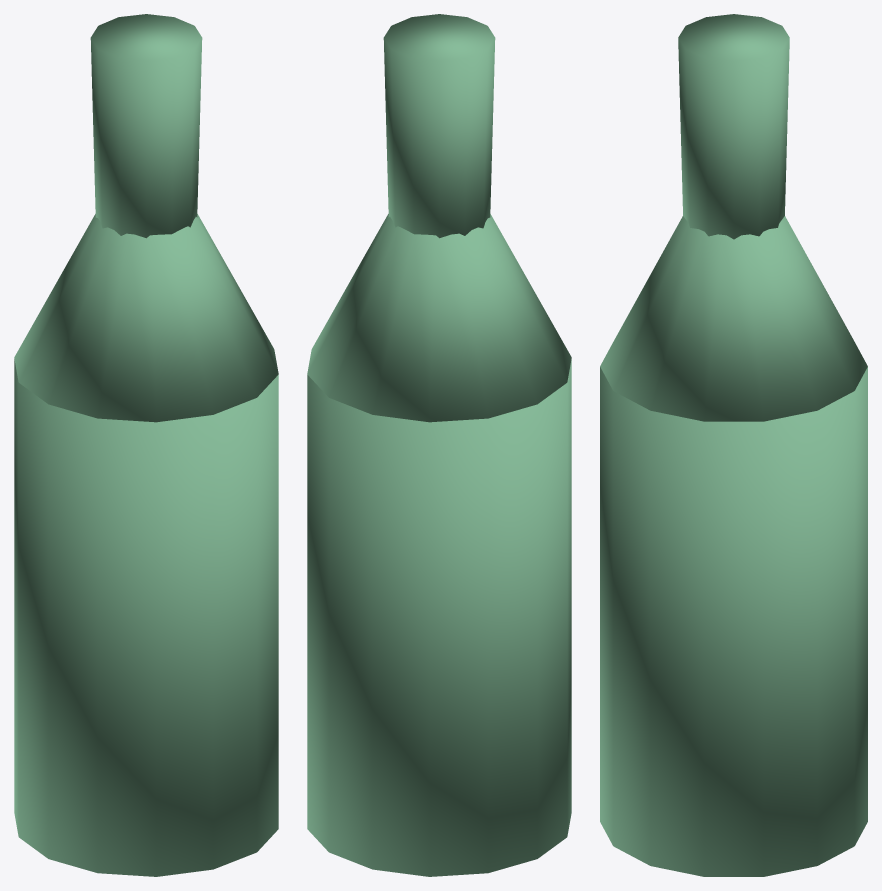
Rendered from item_bottle.glb.
3 views of the same model, side by side, from view 1: azimuth 30°, elevation 25°; view 2: azimuth 150°, elevation 25°; view 3: azimuth 270°, elevation 25° (orthographic).
Parts seen in each view (by area): view 1: BottleBody, BottleShoulder, BottleNeck; view 2: BottleBody, BottleShoulder, BottleNeck; view 3: BottleBody, BottleShoulder, BottleNeck.
Part boxes in pixels (x1,y1,x2,y2): BottleBody: [14, 359, 278, 876]; BottleShoulder: [14, 214, 278, 422]; BottleNeck: [90, 14, 202, 238]; BottleBody: [307, 359, 571, 876]; BottleShoulder: [307, 214, 571, 422]; BottleNeck: [383, 14, 495, 238]; BottleBody: [600, 367, 867, 876]; BottleShoulder: [600, 216, 867, 421]; BottleNeck: [678, 14, 789, 239].
Bounding box in the file's own units: 0.0936 × 0.31 × 0.096.
